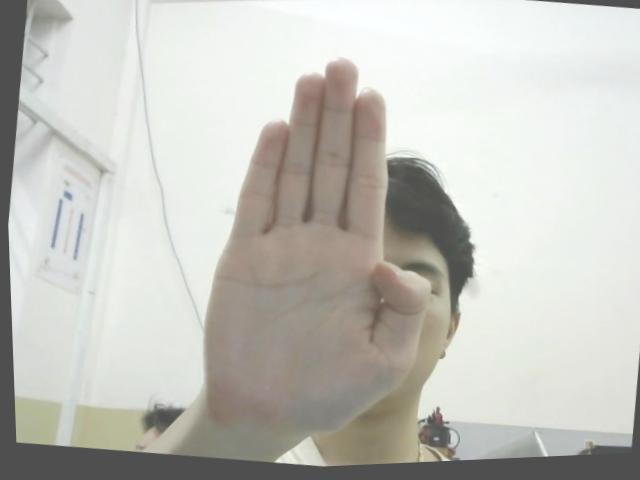B: (179, 40, 461, 453)
